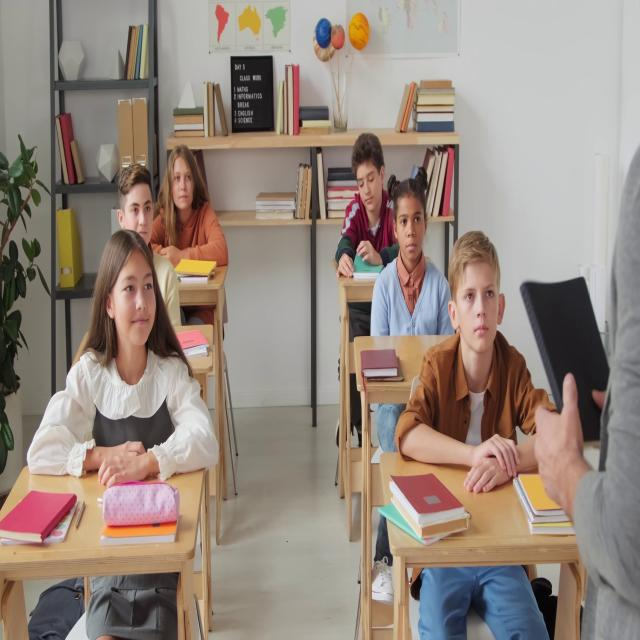listening: (394, 241, 563, 640), (29, 231, 221, 473), (152, 143, 230, 324), (367, 174, 451, 340), (114, 164, 184, 325)
reading: (334, 133, 398, 285)
